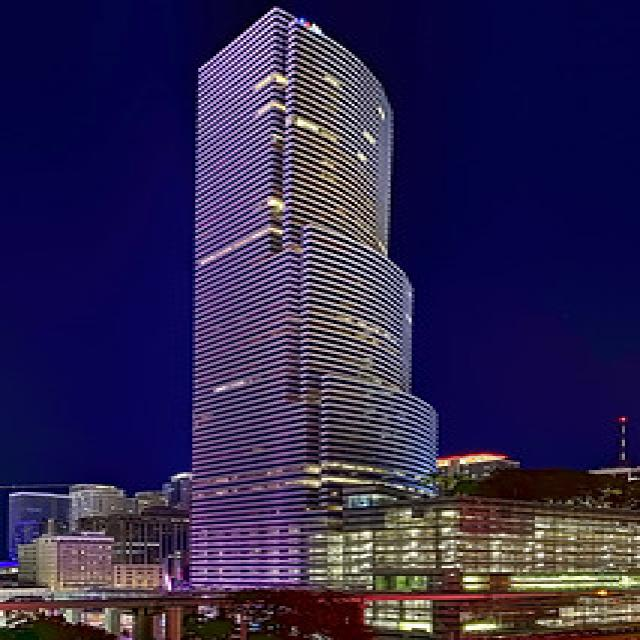Normal_building: (176, 2, 446, 630)
